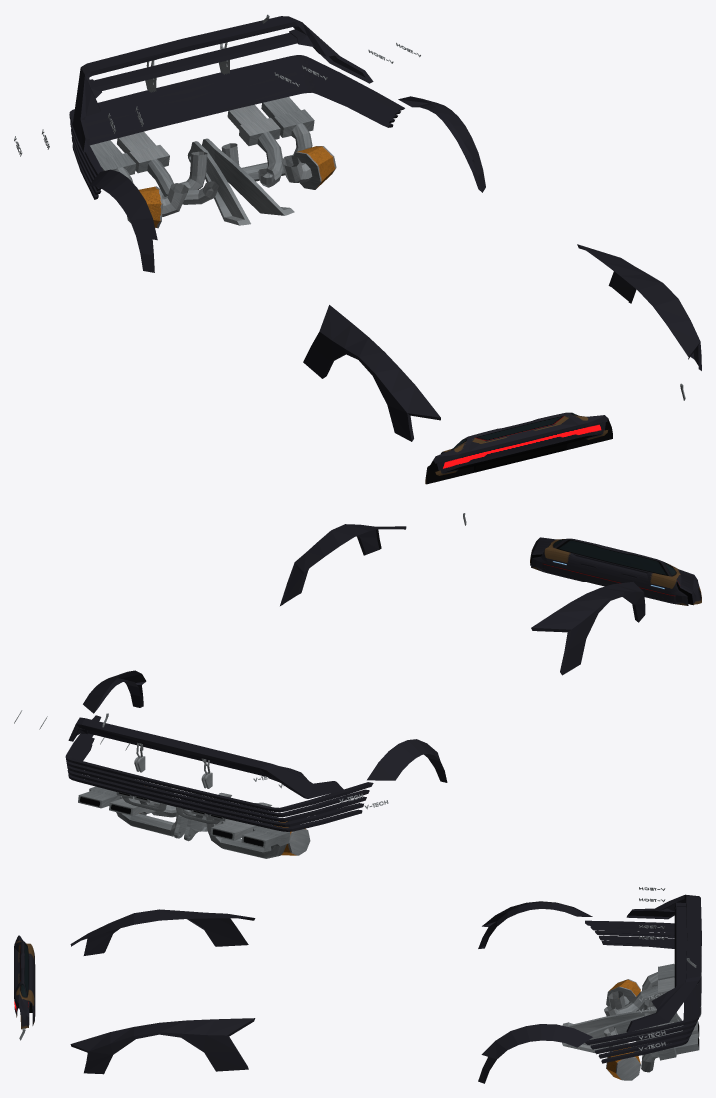
Rendered from voiture.dae.
3 views of the same model, one above another, from view 1: azimuth 30°, elevation 25°; view 2: azimuth 150°, elevation 25°; view 3: azimuth 270°, elevation 25° (orthographic). The views are drawn at different scales.
Visible parts, largest first — view 1: Boden, Sketchfab Spoilerstangen_0, Sketchfab Rad vorne_0, Sketchfab Karosserie_0, Sketchfab Nummernschild vorne_0, Sketchfab Heckzeugs_0, Rippen hinten guide, Sketchfab Kotfluegel_0; view 2: Boden, Sketchfab Nummernschild vorne_0, Sketchfab Spoilerstangen_0, Sketchfab Rad vorne_0, Sketchfab Karosserie_0, Sketchfab Heckzeugs_0, Sketchfab Nummernschild vorne.001_0, Rippen hinten guide, Sketchfab Kotfluegel_0; view 3: Sketchfab Spoilerstangen_0, Boden, Sketchfab Karosserie_0, Sketchfab Heckzeugs_0, Sketchfab Rad vorne_0, Sketchfab Nummernschild vorne_0, Sketchfab Kotfluegel_0, Rippen hinten guide.
Boxes of the visible parts, x1,y1,x2,y2 form: Boden: (69, 55, 404, 199); Sketchfab Spoilerstangen_0: (303, 244, 701, 441); Sketchfab Rad vorne_0: (90, 97, 314, 204); Sketchfab Karosserie_0: (72, 16, 373, 152); Sketchfab Nummernschild vorne_0: (425, 412, 612, 484); Sketchfab Heckzeugs_0: (88, 96, 485, 272); Rippen hinten guide: (187, 138, 294, 225); Sketchfab Kotfluegel_0: (127, 146, 336, 228); Boden: (65, 715, 373, 831); Sketchfab Nummernschild vorne_0: (530, 537, 701, 605); Sketchfab Spoilerstangen_0: (280, 524, 645, 675); Sketchfab Rad vorne_0: (78, 786, 290, 858); Sketchfab Karosserie_0: (68, 717, 343, 798); Sketchfab Heckzeugs_0: (83, 670, 447, 782); Sketchfab Nummernschild vorne.001_0: (116, 792, 225, 824); Rippen hinten guide: (174, 792, 271, 841); Sketchfab Kotfluegel_0: (139, 787, 310, 855); Sketchfab Spoilerstangen_0: (70, 909, 255, 1074); Boden: (585, 920, 701, 1063); Sketchfab Karosserie_0: (626, 894, 701, 1032); Sketchfab Heckzeugs_0: (478, 901, 592, 1083); Sketchfab Rad vorne_0: (604, 963, 699, 1072); Sketchfab Nummernschild vorne_0: (14, 935, 35, 1029); Sketchfab Kotfluegel_0: (606, 979, 640, 1080); Rippen hinten guide: (562, 1009, 682, 1053).
Bounding box in the file's own units: 9.33 × 16.76 × 3.23.
Materials: 1 (1 with a texture image).
